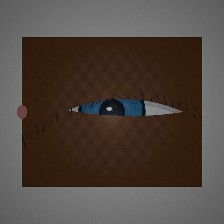pinguecula_lesion: (34, 106, 71, 136)
